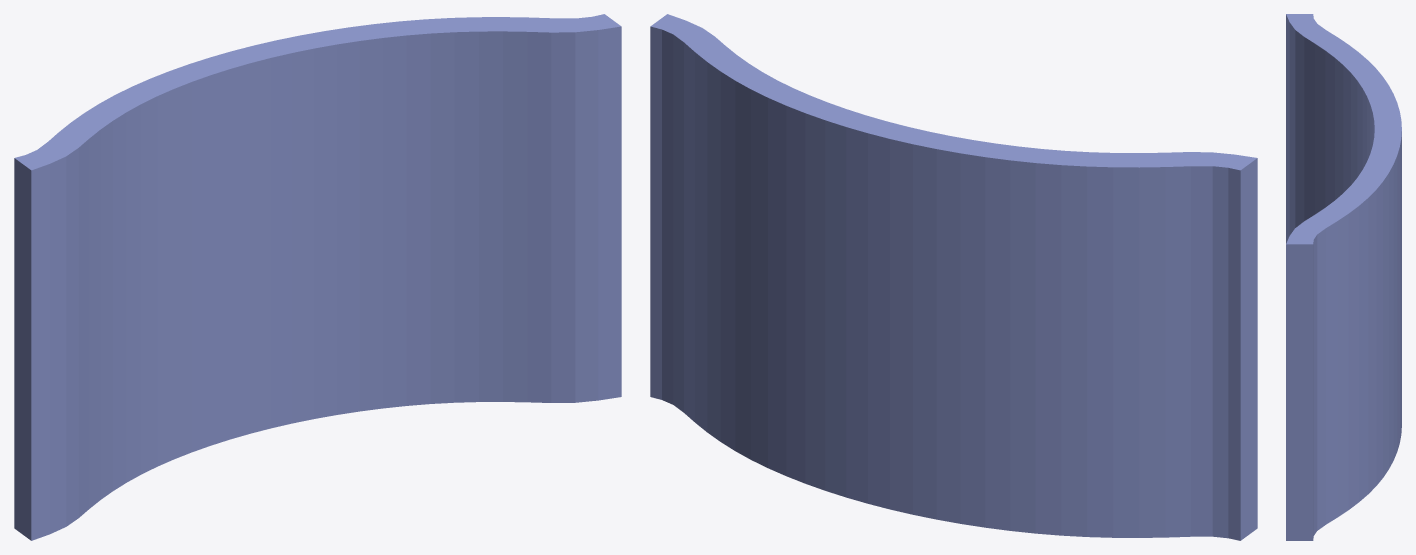
The model's file is warped_lg.fbx.
The picture shows the model from 3 angles, left to right: view 1: azimuth 30°, elevation 25°; view 2: azimuth 150°, elevation 25°; view 3: azimuth 270°, elevation 25°; orthographic projection. The views are drawn at different scales.
Parts seen in each view (by area): view 1: warped_lg; view 2: warped_lg; view 3: warped_lg.
Part boxes in pixels (x1,y1,x2,y2): warped_lg: [14, 14, 621, 540]; warped_lg: [650, 14, 1257, 540]; warped_lg: [1286, 14, 1401, 540].
Bounding box in the file's own units: 2000 × 1200 × 425.
